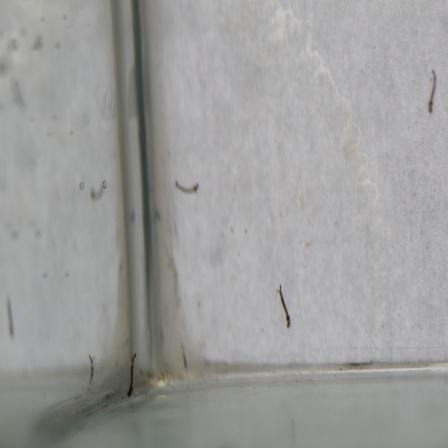Jentik-Nyamuk: (275, 279, 296, 333), (121, 351, 139, 402)
